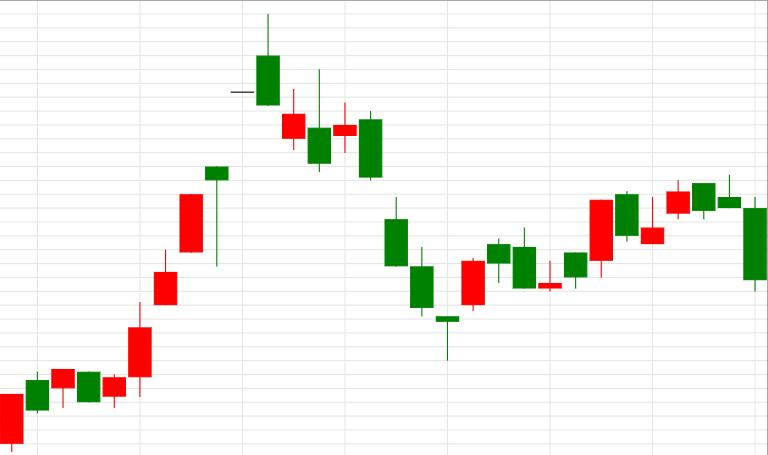morning_star_rise: (359, 111, 484, 362)
